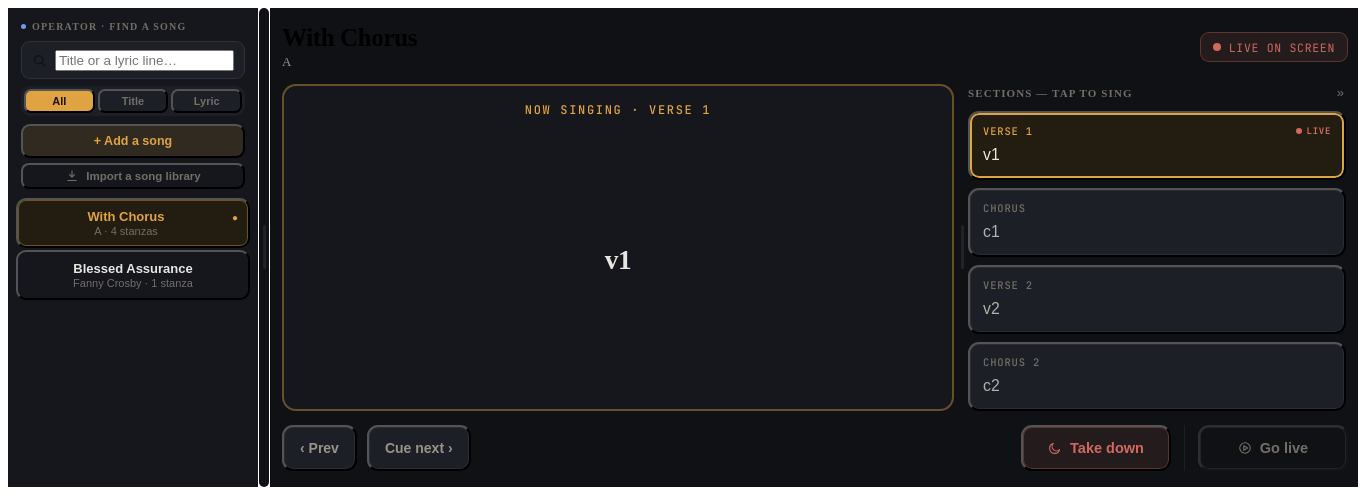
Test: SongsMode armed switching › clicking another song while live arms it: center stays, no cue, Switch button appears
Check: the text "NOW SINGING · Verse 1" is shown, box [525,102,711,118]
Click the text "Blessed Assurance".
click(133, 268)  # box [73,261,193,276]
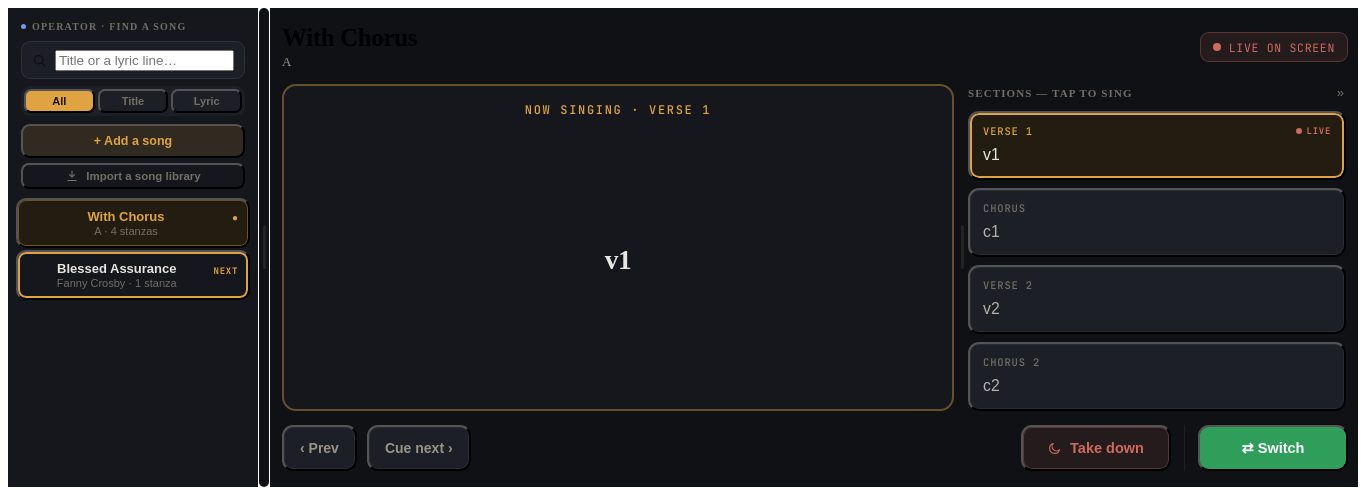
Check: the button "⇄ Switch" is shown, box [1198,425,1348,471]
Check: the text "NEXT" is shown, box [214,265,238,277]
